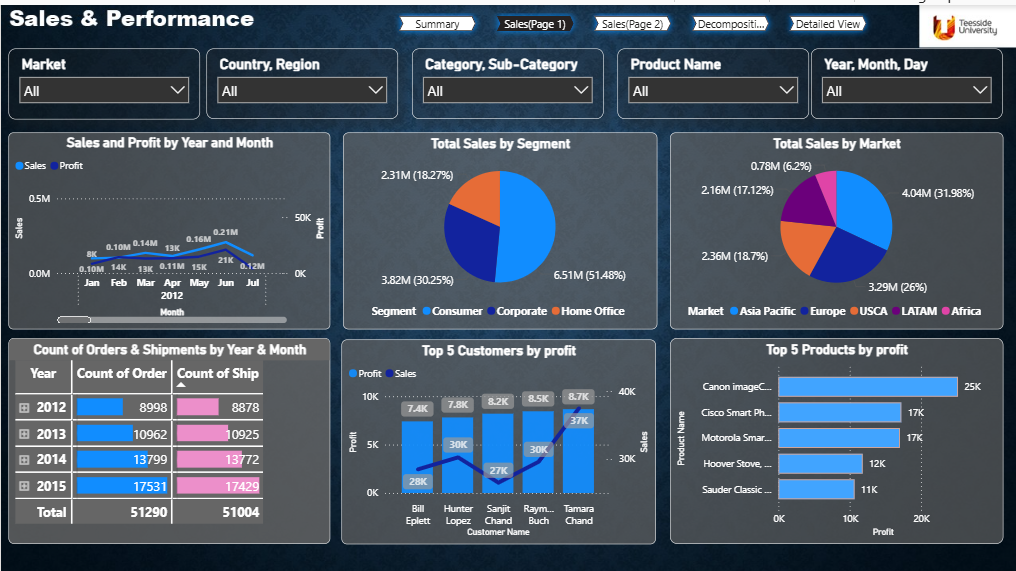

The page's visual inventory and layout, read from the dashboard file:
{"tool":"powerbi","page":{"name":"Sales(Page 1)","canvas":[1280,720],"ordinal":1},"visuals":[{"type":"slicer","fields":{"Values":["Orders.Market"]},"box":[10,55,241,89],"z":0},{"type":"slicer","fields":{"Values":["Orders.Country","Orders.Region"]},"box":[258.9,55,241,88.8],"z":1000},{"type":"slicer","fields":{"Values":["Product.Category","Product.Sub-Category"]},"box":[517.8,55,241,88.8],"z":2000},{"type":"slicer","fields":{"Values":["Product.Product Name"]},"box":[776.7,55,241,88.8],"z":3000},{"type":"slicer","fields":{"Values":["Calendar.Year","Calendar.Month","Calendar.Day"]},"box":[1020.5,55,241,88.8],"z":4000},{"type":"lineChart","fields":{"Category":["Calendar.Year","Calendar.MonthSort"],"Y":["Sum(Orders.Sales)"],"Y2":["Sum(Orders.Profit)"]},"box":[9.5,160.7,405.6,248.1],"z":5000},{"type":"pieChart","title":"Total Sales by Segment","fields":{"Y":["Sum(Orders.Sales)"],"Category":["Customer.Segment"]},"box":[431.1,160.7,396.1,248.1],"z":6000},{"type":"pieChart","title":"Total Sales by Market","fields":{"Y":["Sum(Orders.Sales)"],"Category":["Orders.Market"]},"box":[843,160.7,419.9,248.1],"z":7000},{"type":"pivotTable","title":"Count of Orders & Shipments by Year & Month","fields":{"Rows":["Calendar.Year","Calendar.MonthSort"],"Values":["CountNonNull(Orders.Order Date)","Orders.Count of Ship"]},"box":[9.5,419.9,405.6,259.3],"z":8000},{"type":"lineClusteredColumnComboChart","title":"Top 5 Customers by profit","fields":{"Y":["Sum(Orders.Profit)"],"Y2":["Sum(Orders.Sales)"],"Category":["Customer.Customer Name"]},"box":[429.5,421.5,396.1,257.7],"z":9000},{"type":"clusteredBarChart","title":"Top 5 Products by profit","fields":{"Y":["Sum(Orders.Profit)"],"Category":["Product.Product Name"]},"box":[843,419.9,419.9,259.3],"z":10000},{"type":"pageNavigator","box":[493.9,5.1,605.2,35.4],"z":12001}]}

Visuals, with their boxes in screenshot pixels (x1, y1, x2, y2), scaled from the page's 1280x720 canvas onto the 1016x571 screenshot:
slicer - Orders.Market: left=8, top=44, right=199, bottom=114
slicer - Orders.Country x Orders.Region: left=206, top=44, right=397, bottom=114
slicer - Product.Category x Product.Sub-Category: left=411, top=44, right=602, bottom=114
slicer - Product.Product Name: left=617, top=44, right=808, bottom=114
slicer - Calendar.Year x Calendar.Month: left=810, top=44, right=1001, bottom=114
lineChart - Calendar.Year x Calendar.MonthSort: left=8, top=127, right=329, bottom=324
"Total Sales by Segment" pieChart: left=342, top=127, right=657, bottom=324
"Total Sales by Market" pieChart: left=669, top=127, right=1002, bottom=324
"Count of Orders & Shipments by Year & Month" pivotTable: left=8, top=333, right=329, bottom=539
"Top 5 Customers by profit" lineClusteredColumnComboChart: left=341, top=334, right=655, bottom=539
"Top 5 Products by profit" clusteredBarChart: left=669, top=333, right=1002, bottom=539
pageNavigator: left=392, top=4, right=872, bottom=32
